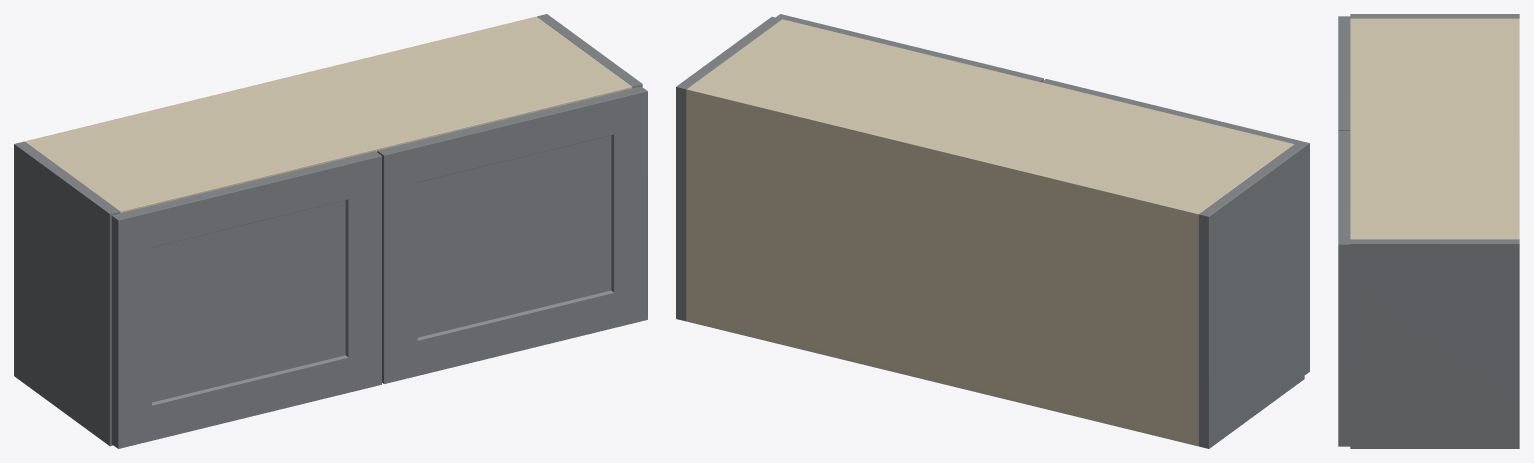
Rendered from oppein-ply-gss-w3615.glb.
3 renders of one model, left to right at view 1: azimuth 30°, elevation 25°; view 2: azimuth 150°, elevation 25°; view 3: azimuth 270°, elevation 25°, orthographic. The views are drawn at different scales.
Parts seen in each view (by area): view 1: Door, Door.001, Cabinet top, Cabinet side, Cabinet back, Cabinet side.001; view 2: Cabinet back, Cabinet top, Cabinet side, Cabinet bottom, Cabinet side.001, Door, Door.001; view 3: Cabinet top, Cabinet side.001, Door.001, Cabinet back, Door, Cabinet side.
Boxes of the visible parts, bbox=[...] form: Door: bbox=[111, 151, 381, 448]; Door.001: bbox=[377, 86, 647, 383]; Cabinet top: bbox=[25, 17, 632, 213]; Cabinet side: bbox=[14, 141, 120, 446]; Cabinet back: bbox=[25, 16, 539, 143]; Cabinet side.001: bbox=[537, 14, 642, 88]; Cabinet back: bbox=[686, 86, 1201, 445]; Cabinet top: bbox=[687, 19, 1293, 224]; Cabinet side: bbox=[1198, 144, 1304, 448]; Cabinet bottom: bbox=[686, 312, 1198, 446]; Cabinet side.001: bbox=[676, 16, 781, 321]; Door: bbox=[1041, 79, 1309, 374]; Door.001: bbox=[776, 14, 1043, 82]; Cabinet top: bbox=[1350, 18, 1519, 239]; Cabinet side.001: bbox=[1350, 239, 1519, 448]; Door.001: bbox=[1338, 131, 1350, 446]; Cabinet back: bbox=[1513, 18, 1519, 238]; Door: bbox=[1338, 16, 1350, 130]; Cabinet side: bbox=[1350, 14, 1519, 18].
Bounding box in the file's own units: 0.9144 × 0.381 × 0.3048.
